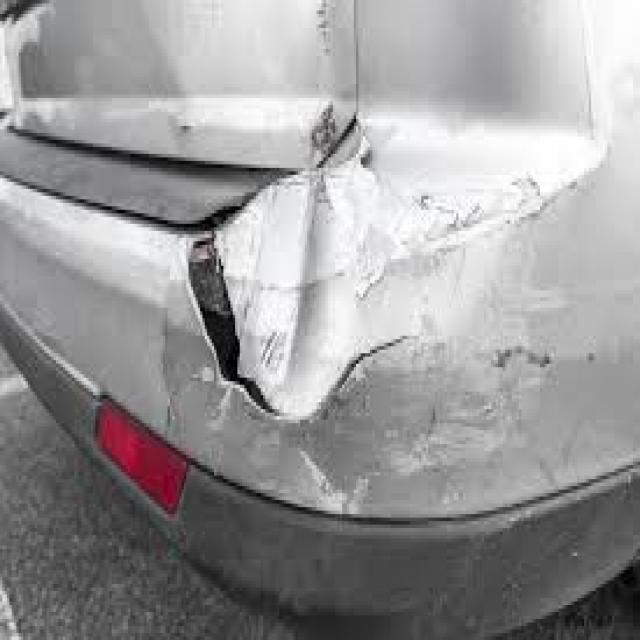minor: (156, 46, 636, 469)
